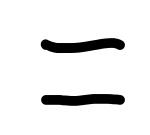eqv: (40, 38, 125, 106)
